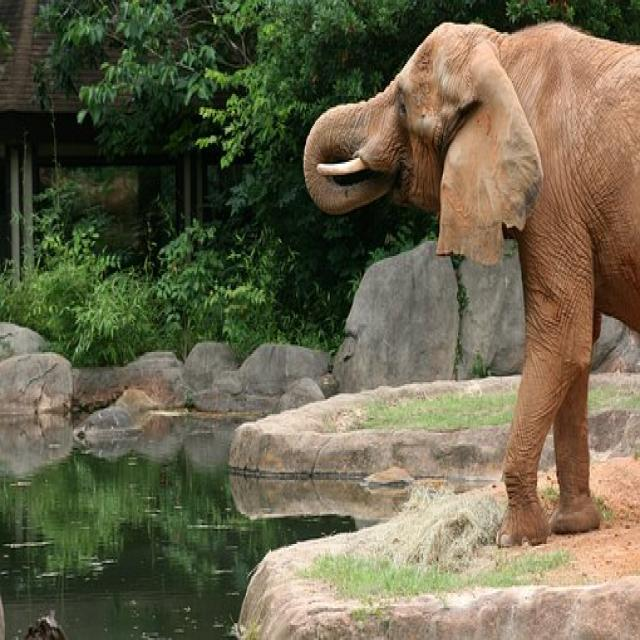Elephant: (297, 11, 640, 574)
